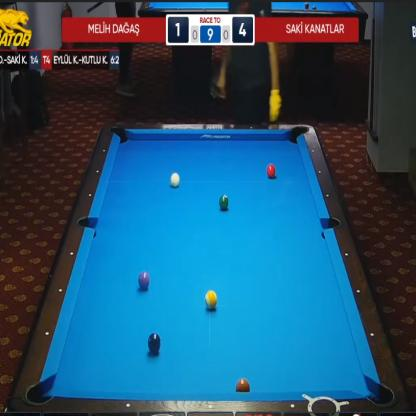Ball: (147, 332, 161, 354), (138, 271, 150, 290), (205, 290, 217, 309), (235, 378, 250, 392), (170, 172, 180, 188), (219, 194, 229, 210), (266, 164, 276, 178)
